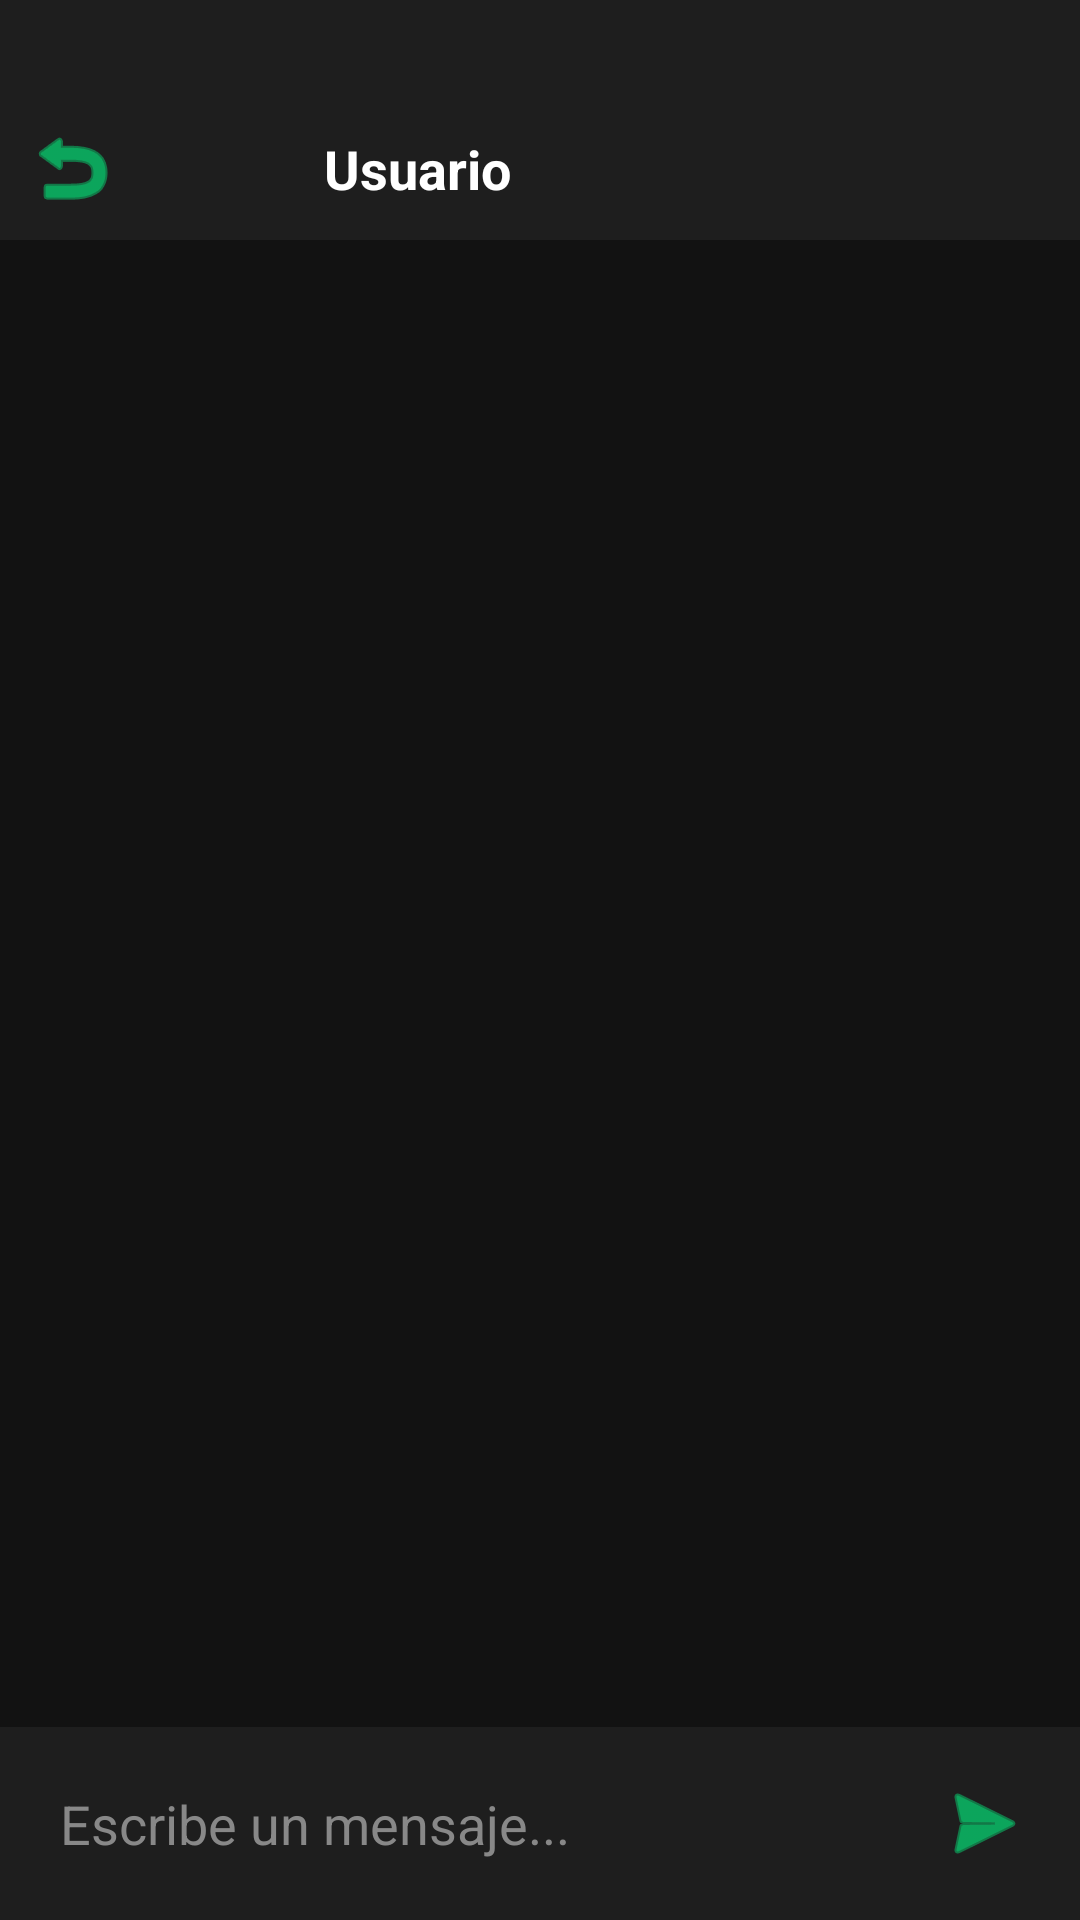

Screen size 1080px×1920px. Icon name, then its box in pixels as region(x1, y1, x2, y2):
revert: region(39, 137, 108, 200)
send: region(954, 1793, 1016, 1854)
